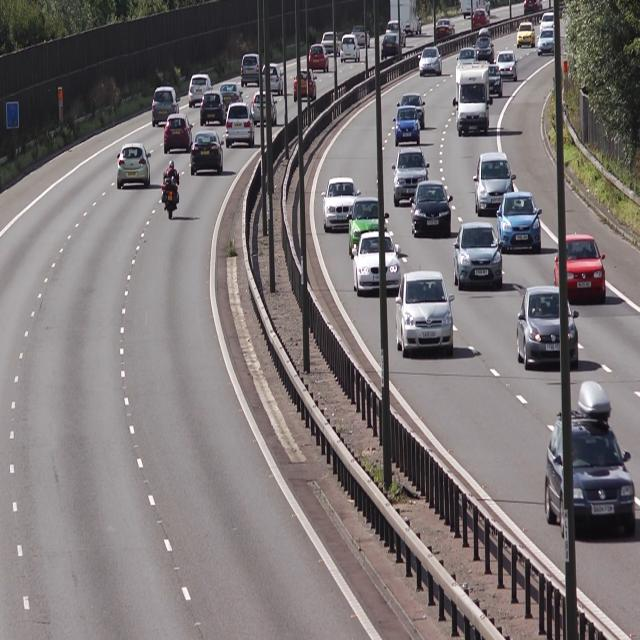Car: (542, 378, 638, 542), (516, 284, 580, 374), (395, 272, 457, 356), (452, 222, 506, 290), (556, 233, 608, 303), (454, 58, 495, 136), (353, 233, 404, 295), (473, 149, 518, 217), (497, 192, 544, 256), (408, 178, 455, 240), (348, 194, 392, 256), (322, 176, 364, 232), (393, 143, 432, 202), (117, 141, 153, 189), (188, 133, 227, 171), (223, 103, 257, 146), (151, 87, 183, 127), (392, 104, 423, 145), (163, 113, 194, 153), (197, 89, 226, 127), (421, 44, 445, 81), (239, 53, 264, 88), (189, 73, 213, 106)
